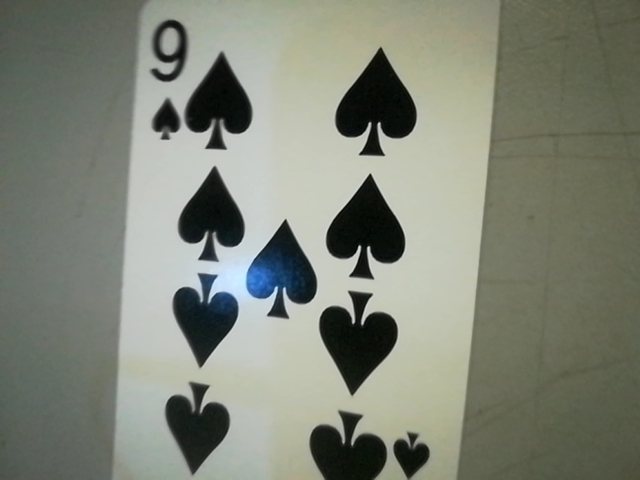ht 9: (131, 8, 194, 150)
